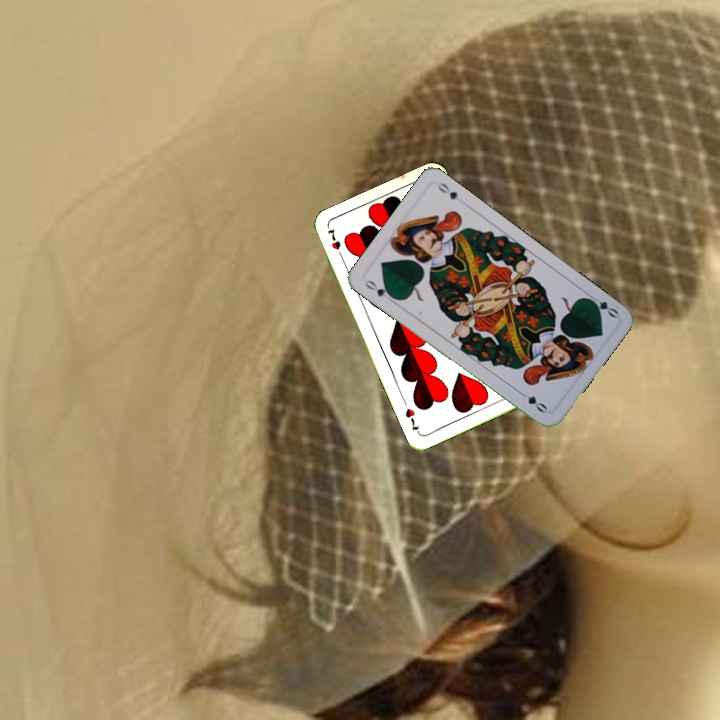GO: (583, 290, 621, 320), (361, 276, 398, 302)
H7: (323, 224, 346, 262)
